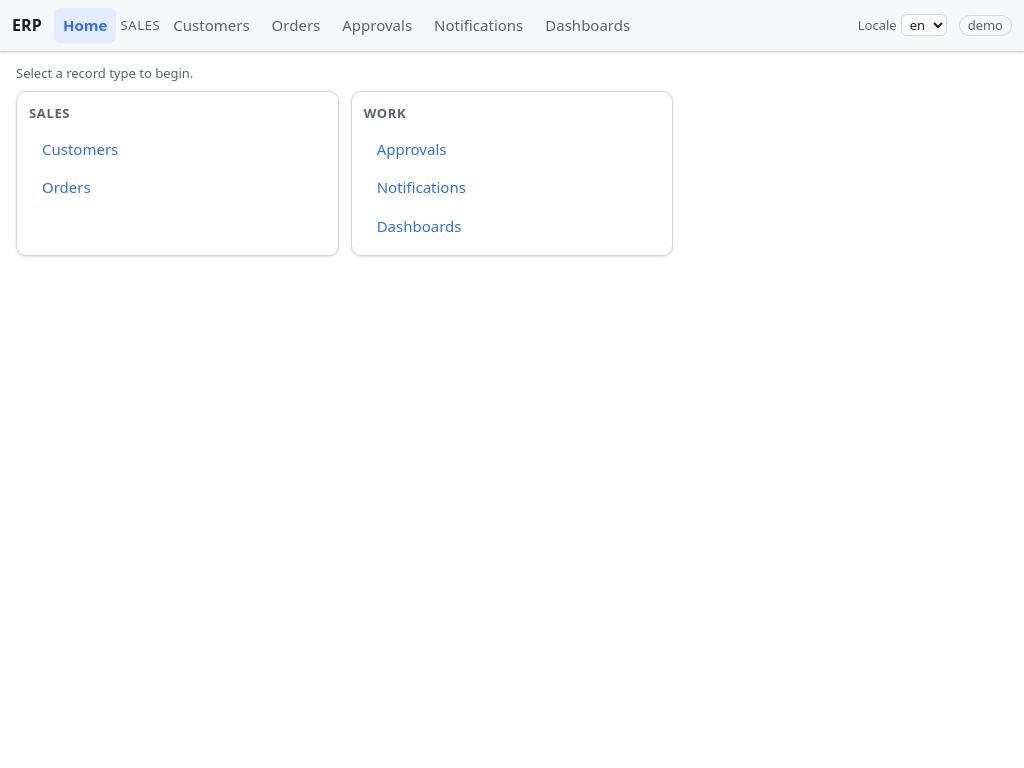
Test case: RuntimeShell › a state-machine transition PATCHes the versioned record and applies the SERVER's response (re-audit)
This screenshot has width=1024, height=768.
Click the button "Orders" in the row of "ERP": [296, 25] box [263,8,329,42]
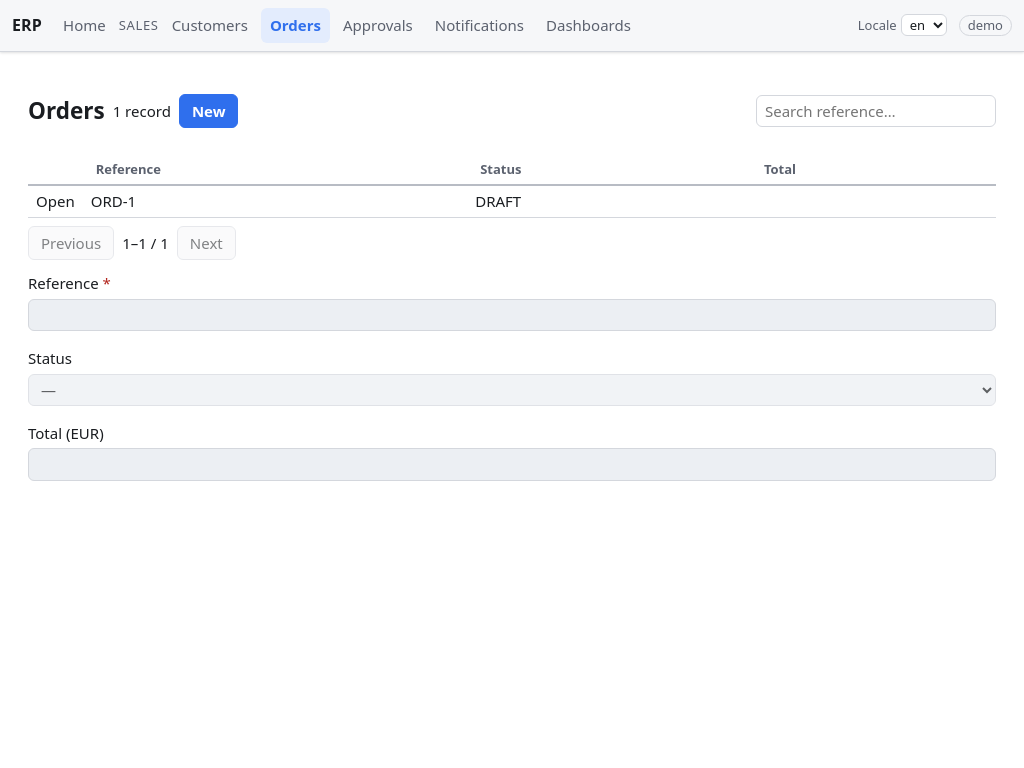
Expected: the text "ORD-1" is shown
Click the text "ORD-1": [275, 201] box [83,185,467,217]
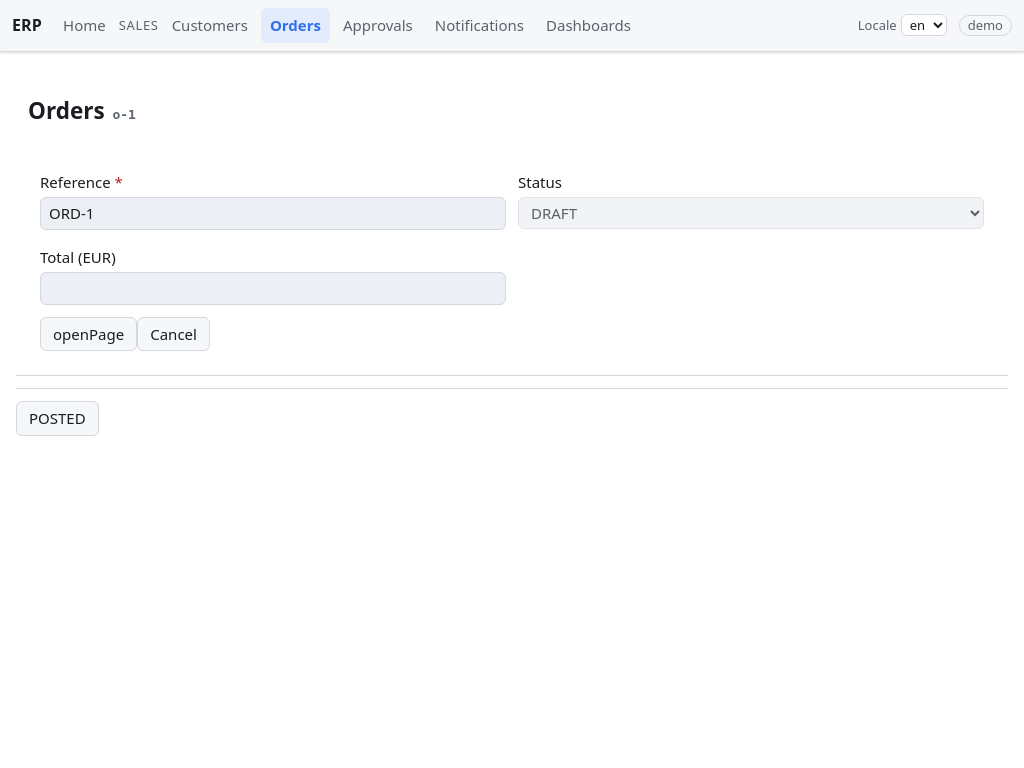
Click the button "POSTED": [57, 418] box [16,401,99,436]
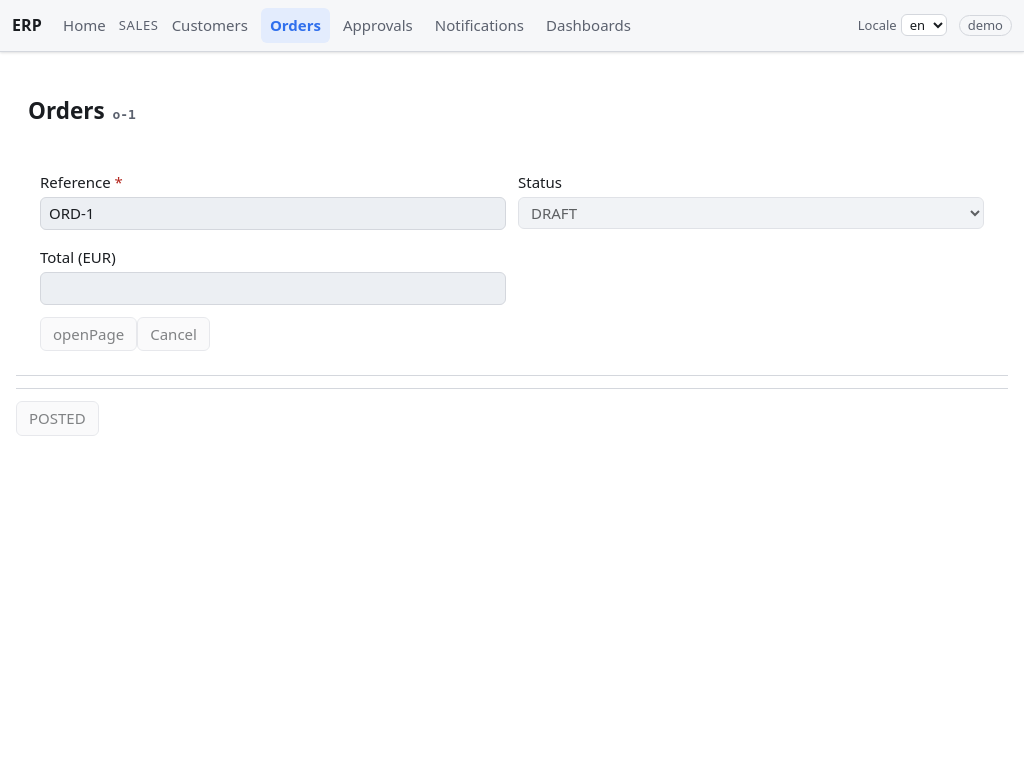
Click the button "POSTED": [57, 418] box [16,401,99,436]
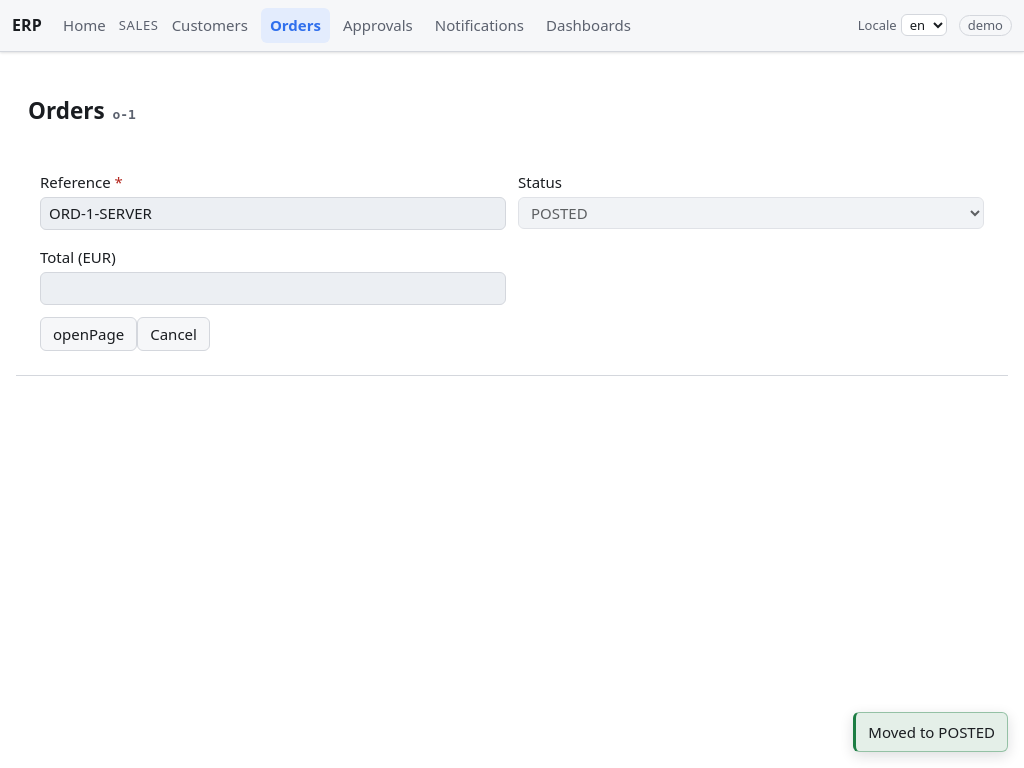
Expected: the field showing "ORD-1-SERVER" is shown, [40,197,506,230]
